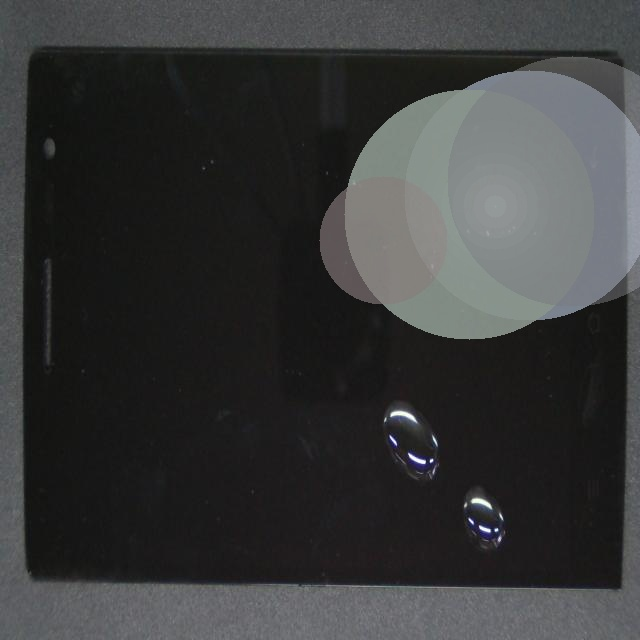oil: (242, 242, 640, 640), (271, 268, 640, 640)
